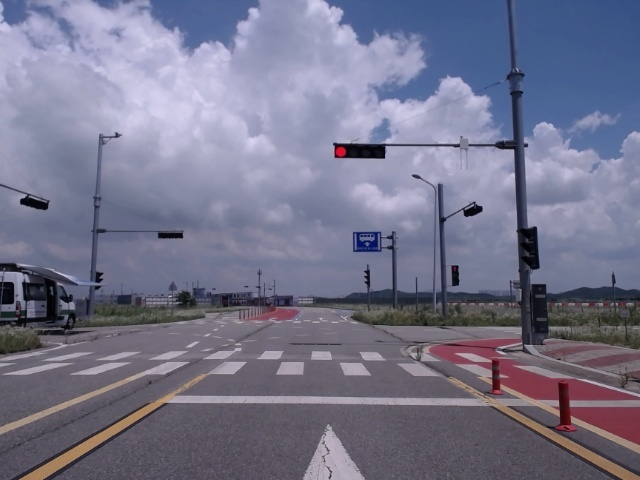red_4: (334, 145, 385, 160)
